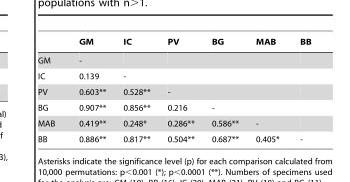table: (37, 37, 310, 143)
table column: (66, 37, 113, 143), (113, 37, 158, 143), (158, 37, 202, 143), (202, 37, 246, 143), (246, 37, 288, 143), (37, 37, 66, 143), (288, 37, 310, 143)
table column header: (37, 37, 310, 50)
table row: (37, 50, 310, 68), (37, 83, 310, 99), (37, 99, 310, 115), (37, 115, 310, 131), (37, 68, 310, 83), (37, 37, 310, 50), (37, 131, 310, 143)
